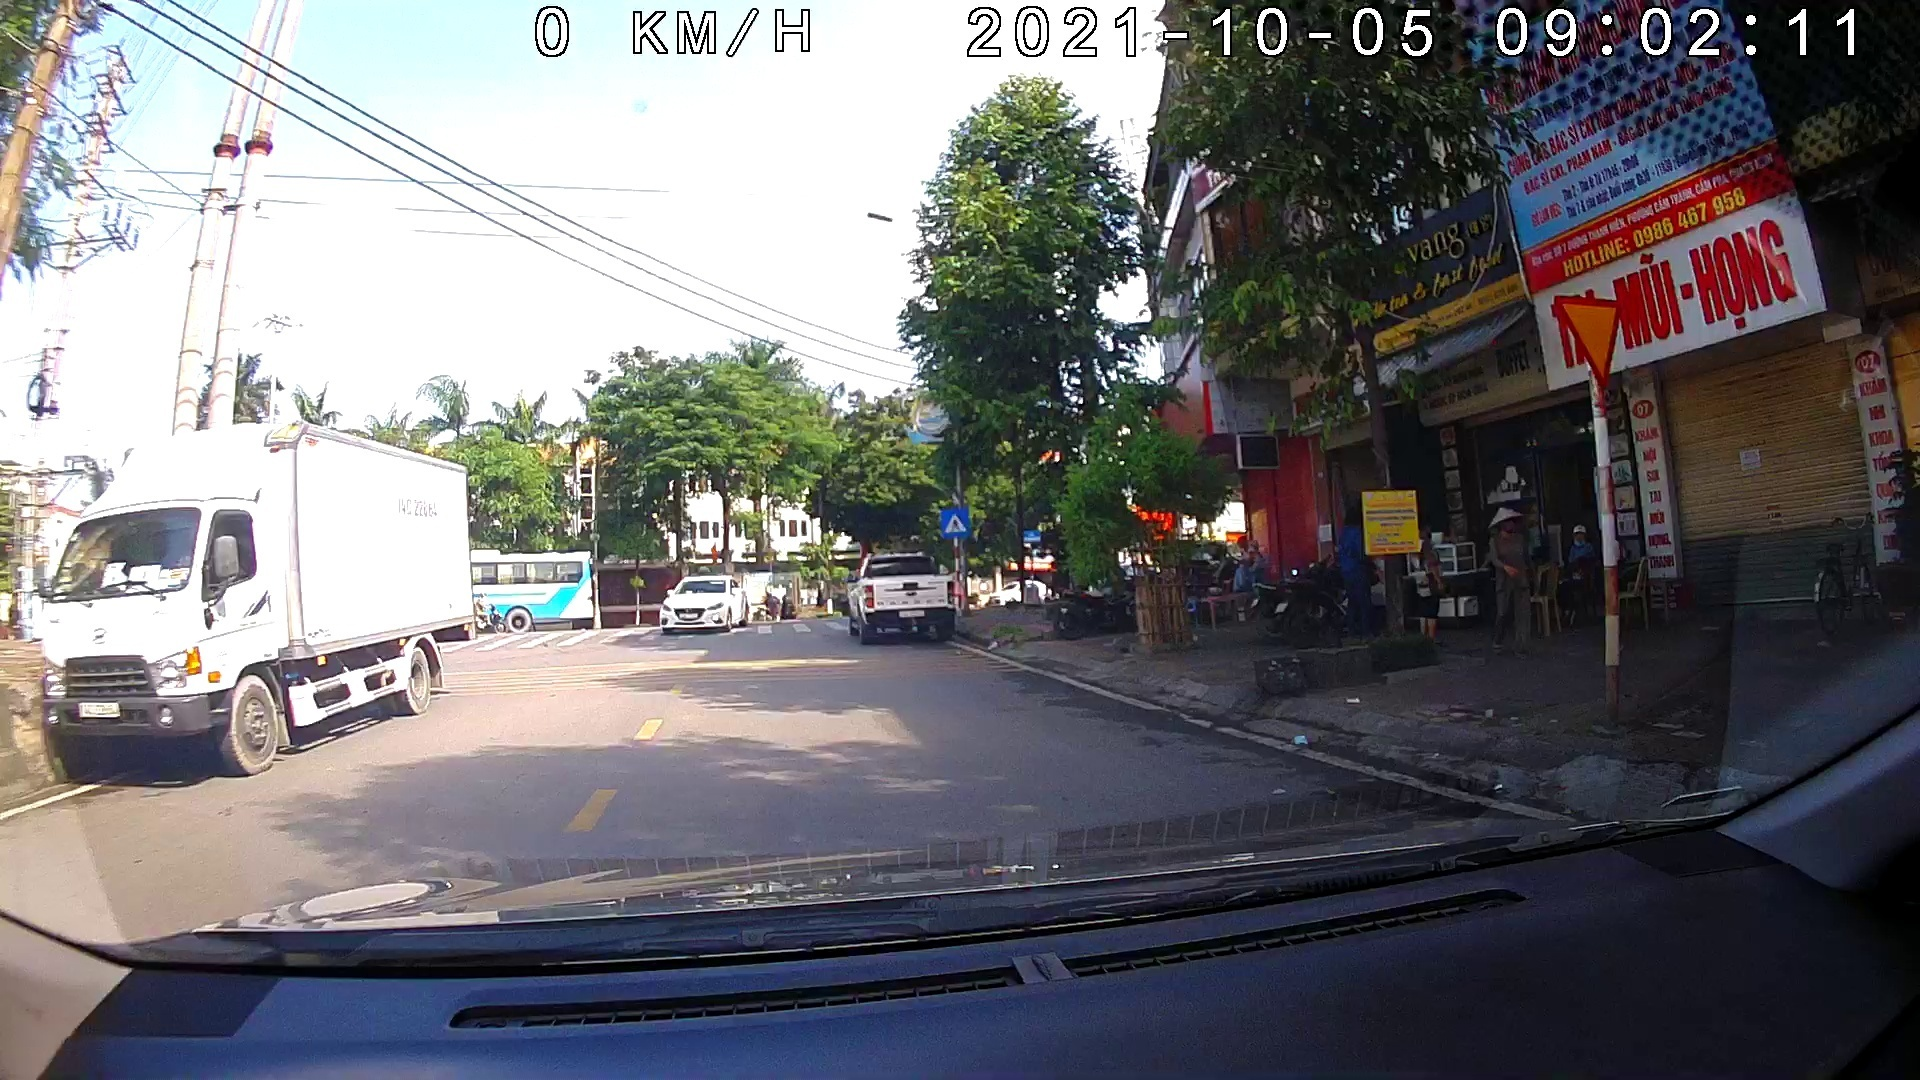Bien khac: (1553, 297, 1623, 390)
Nguoi di bo: (938, 506, 972, 541)
